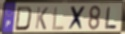8: (88, 5, 101, 32)
D: (14, 6, 34, 32)
K: (34, 6, 49, 31)
L: (51, 6, 65, 31), (105, 7, 119, 30)
X: (67, 5, 87, 32)
